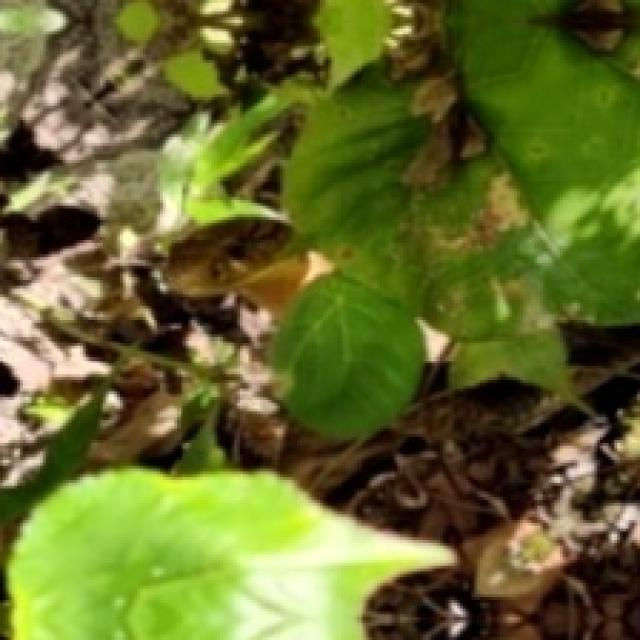king cobra: (363, 391, 637, 637)
